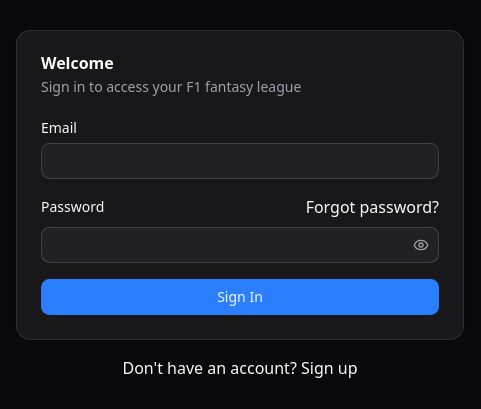
Test case: SignInForm › validation › rejects a malformed email
Type "not-an-email" into the field labelled "Email" at (240, 161), box [41,143,439,179]
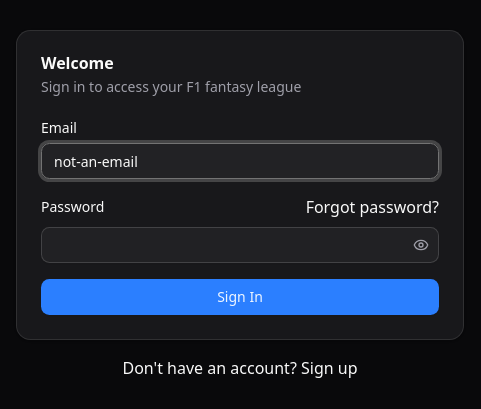
Type "password123" into the password field labelled "Password" at (240, 245), box [41,227,439,263]
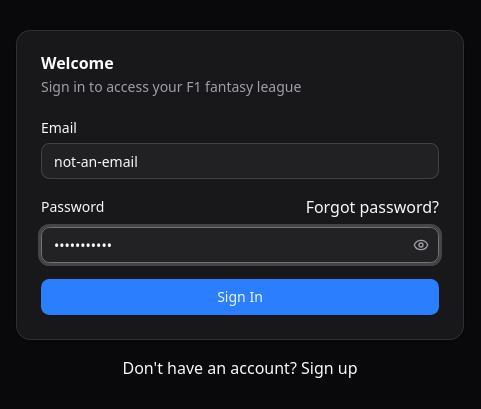
Click the button "Sign In" at (240, 297), box [41,279,439,315]
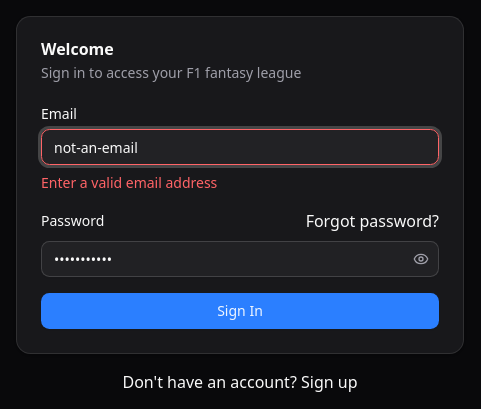
Result: the text "Enter a valid email address" is shown at [41,173,217,192]
